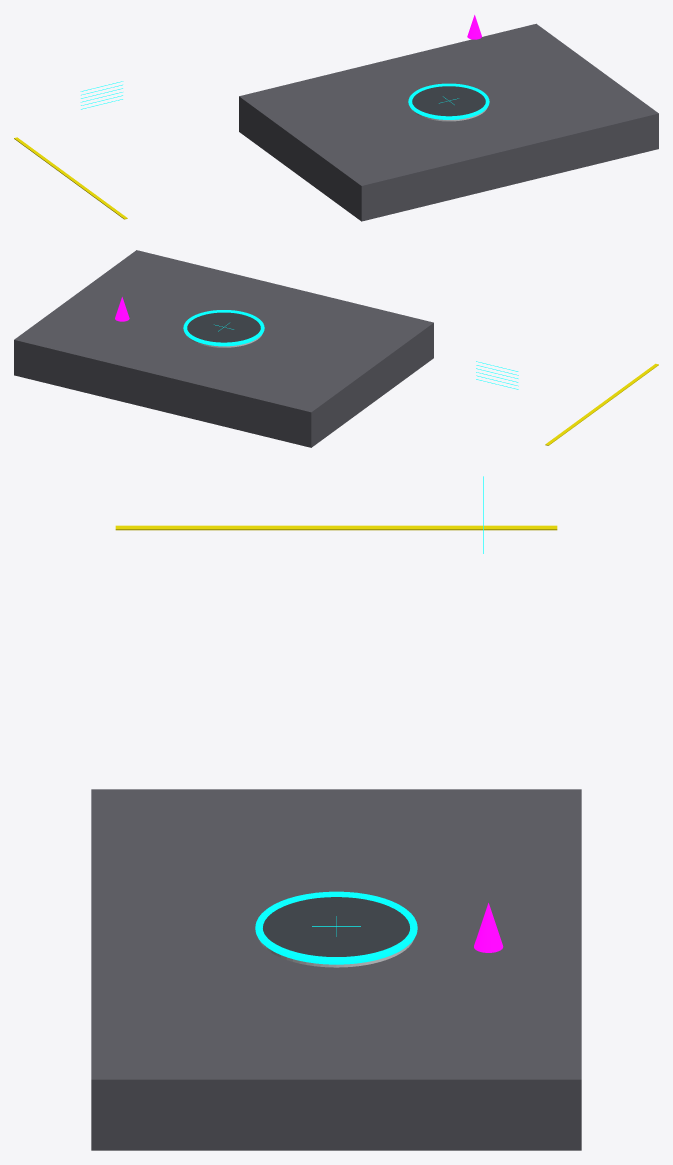
The model's file is interfacemodule.glb.
The picture shows the model from 3 angles, top to bottom: view 1: azimuth 30°, elevation 25°; view 2: azimuth 150°, elevation 25°; view 3: azimuth 270°, elevation 25°; orthographic projection. The views are drawn at different scales.
Visible parts, largest first — view 1: Platform_Slab, AlignStation_Chuck, AlignRing_LED, SafetyStripe_0; view 2: Platform_Slab, AlignStation_Chuck, AlignRing_LED, SafetyStripe_0; view 3: Platform_Slab, AlignStation_Chuck, AlignRing_LED, SafetyStripe_0.
Part boxes in pixels (x1,y1,x2,y2): Platform_Slab: (239, 23, 658, 221); AlignStation_Chuck: (412, 86, 485, 116); AlignRing_LED: (408, 83, 489, 119); SafetyStripe_0: (14, 137, 127, 219); Platform_Slab: (14, 250, 433, 447); AlignStation_Chuck: (187, 312, 260, 342); AlignRing_LED: (183, 310, 264, 346); SafetyStripe_0: (545, 363, 658, 445); Platform_Slab: (91, 789, 581, 1150); AlignStation_Chuck: (263, 897, 409, 956); AlignRing_LED: (255, 891, 417, 964); SafetyStripe_0: (115, 525, 557, 530).
Bounding box in the file's own units: 12.44 × 2.31 × 5.
